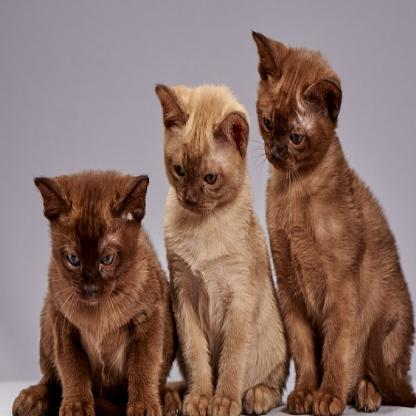cat: (249, 26, 415, 415), (155, 82, 291, 415), (12, 172, 179, 415)
